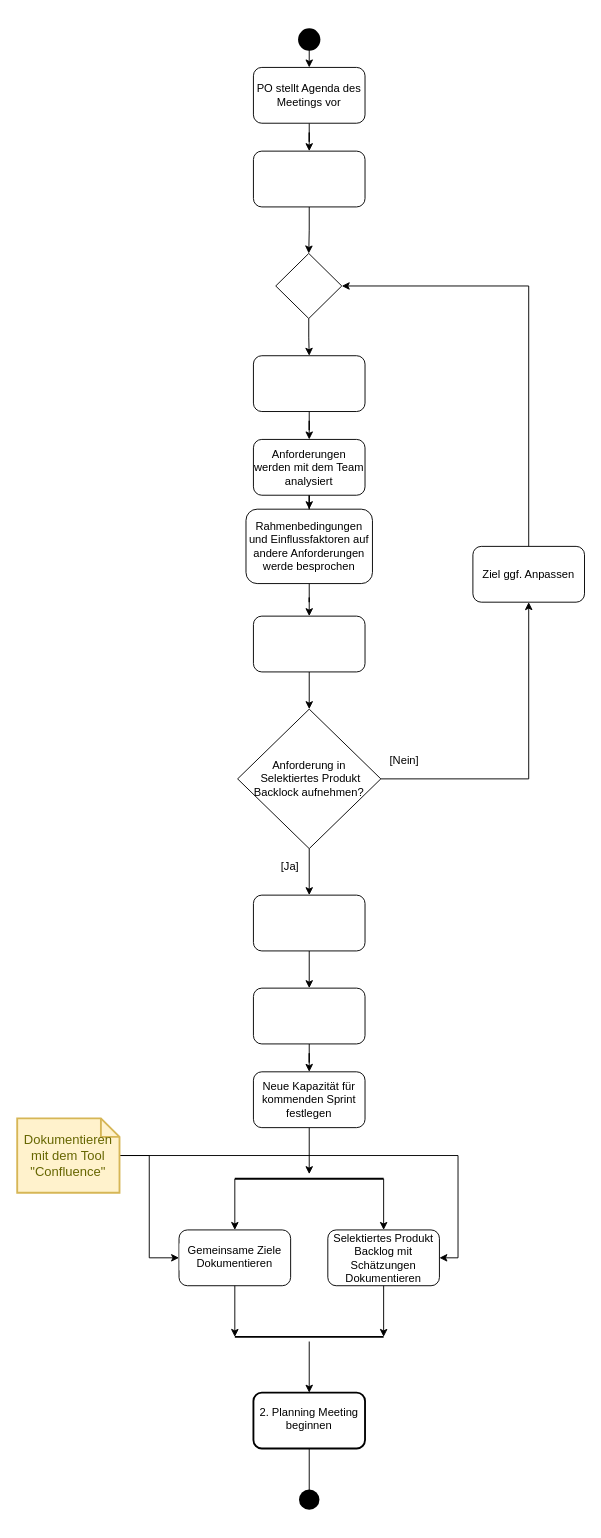
The diagram is 601 pixels wide and 1538 high, and some of its shapes have lost their labels. The shapes that lost their labels are listed below. From the top down, each one's centre as x and y in pixels, then its label:
point (308, 178): PO gibt übersicht der Sprint anforderung
point (308, 383): Jede anforderung wird einzelnt nacheinander überprüft
point (308, 643): Bewertung der Anforderungen durch die "Planing Poker" Methode
point (308, 922): Anforderung in Selektiertes Produkt Backlock aufnehemen
point (308, 1015): Ergebnisse des Vorherigen Sprints ermitteln
